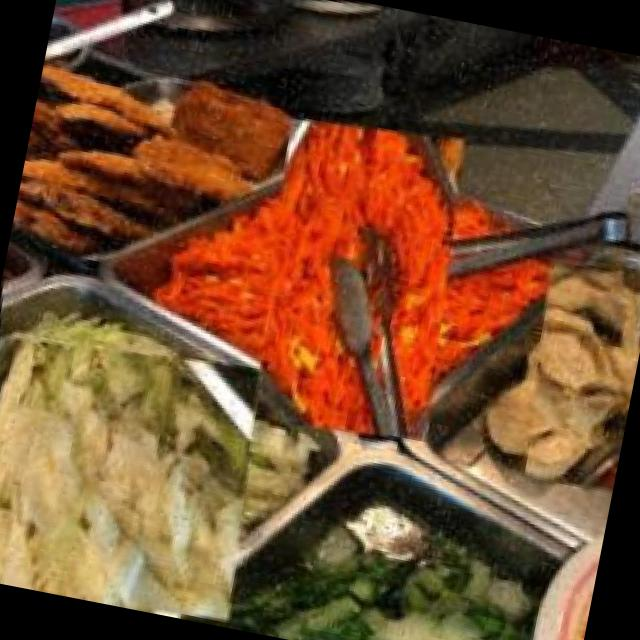carrot_eggs: (193, 115, 525, 447)
chinese_cabbage: (0, 296, 288, 629)
fried_dumplings: (493, 240, 640, 498)
